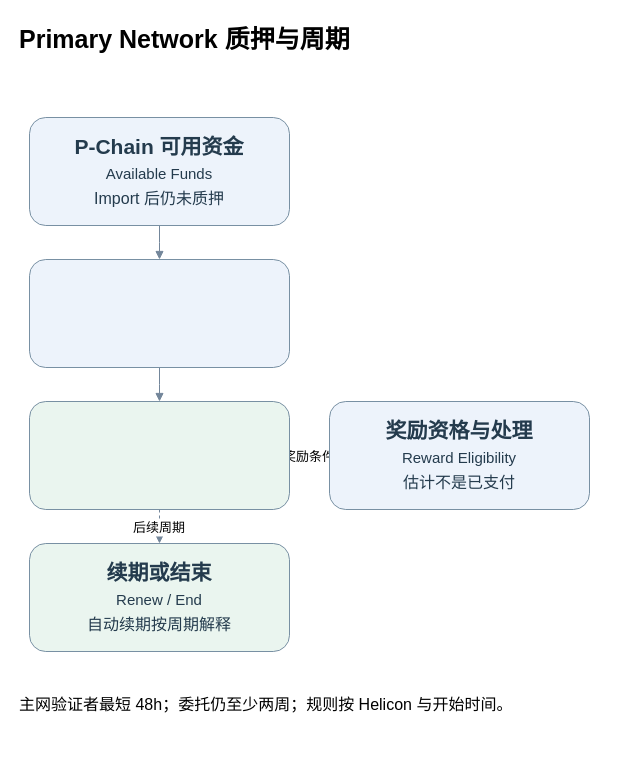
Image size: 618x775. Some labels were removed from this diagram. The centre of each missing label's shape, as x and y in pixels:
本金锁定 Locked Principal 按适用时间窗口: (x=159, y=455)
验证或委托操作 Validate / Delegate 对象与条件不同: (x=159, y=313)
